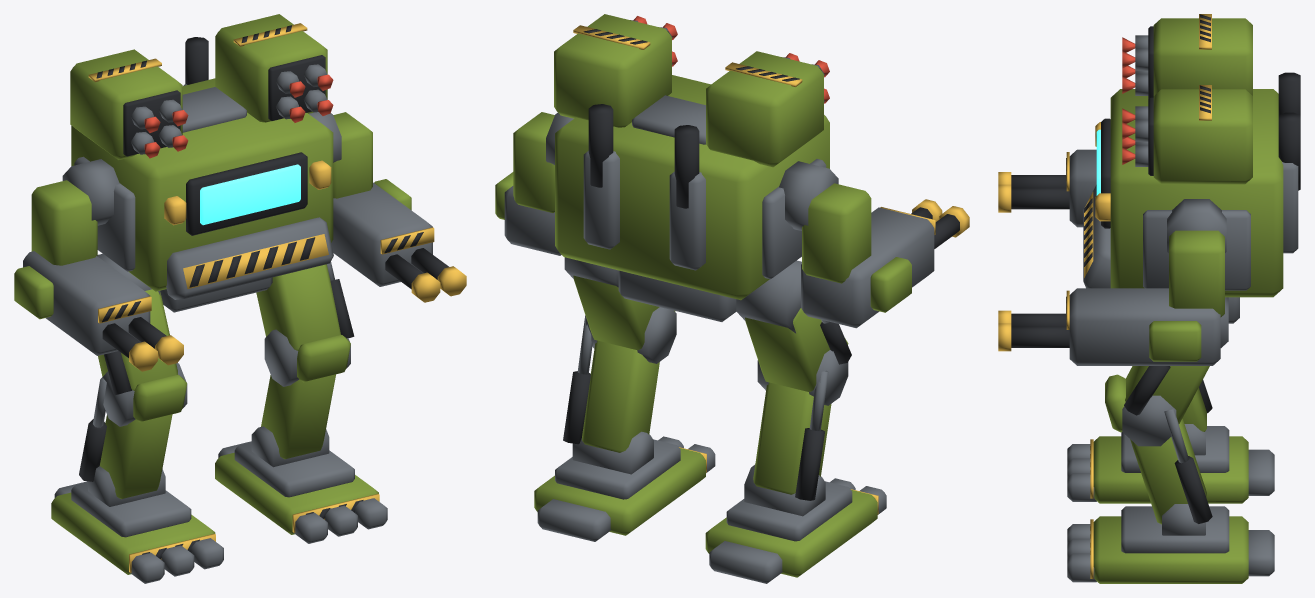
Rendered from mech-walker-boss.glb.
3 renders of one model, left to right at view 1: azimuth 30°, elevation 25°; view 2: azimuth 150°, elevation 25°; view 3: azimuth 270°, elevation 25°, orthographic. The views are drawn at different scales.
Visible parts, largest first — view 1: Torso, Leg_R, Leg_L, Arm_L, Arm_R, Pelvis; view 2: Torso, Leg_L, Leg_R, Arm_L, Arm_R, Pelvis; view 3: Torso, Leg_R, Arm_R, Leg_L, Arm_L.
Boxes of the visible parts, x1,y1,x2,y2 form: Torso: (70, 14, 333, 299); Leg_R: (215, 261, 387, 543); Leg_L: (51, 253, 223, 583); Arm_L: (14, 159, 183, 371); Arm_R: (309, 112, 466, 302); Pelvis: (160, 277, 272, 312); Torso: (554, 14, 829, 300); Leg_L: (705, 260, 886, 583); Leg_R: (534, 257, 715, 541); Arm_L: (779, 161, 969, 328); Arm_R: (495, 112, 573, 255); Pelvis: (618, 270, 736, 321); Torso: (1083, 14, 1300, 297); Leg_R: (1067, 297, 1274, 583); Arm_R: (998, 199, 1226, 365); Leg_L: (1067, 380, 1274, 503); Arm_L: (998, 149, 1096, 227).
Size of the model in its own units: 20.2 by 23.43 by 14.01.
